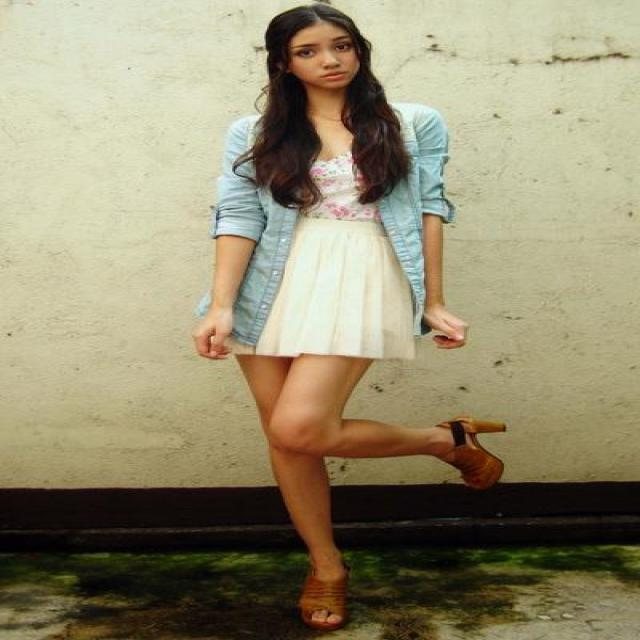dress: (256, 153, 437, 360)
jacket: (208, 102, 453, 353)
shoe: (299, 420, 504, 624)
